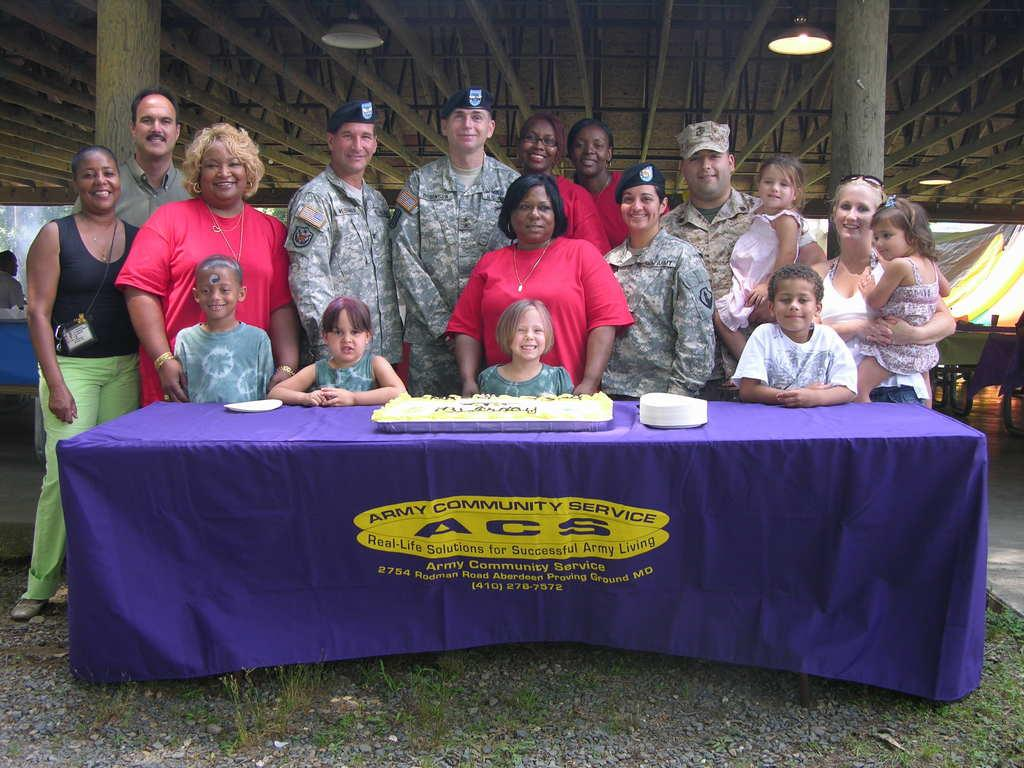Sem Máscara: (199, 139, 244, 201), (772, 274, 814, 334), (78, 152, 121, 207), (133, 96, 173, 155), (512, 185, 553, 239), (332, 121, 375, 170), (683, 149, 726, 195), (197, 263, 232, 319), (618, 180, 657, 228), (326, 307, 364, 356), (571, 126, 607, 175), (508, 306, 543, 355), (835, 186, 869, 236), (519, 118, 554, 166), (445, 109, 486, 146), (756, 165, 789, 207), (870, 218, 903, 259)
